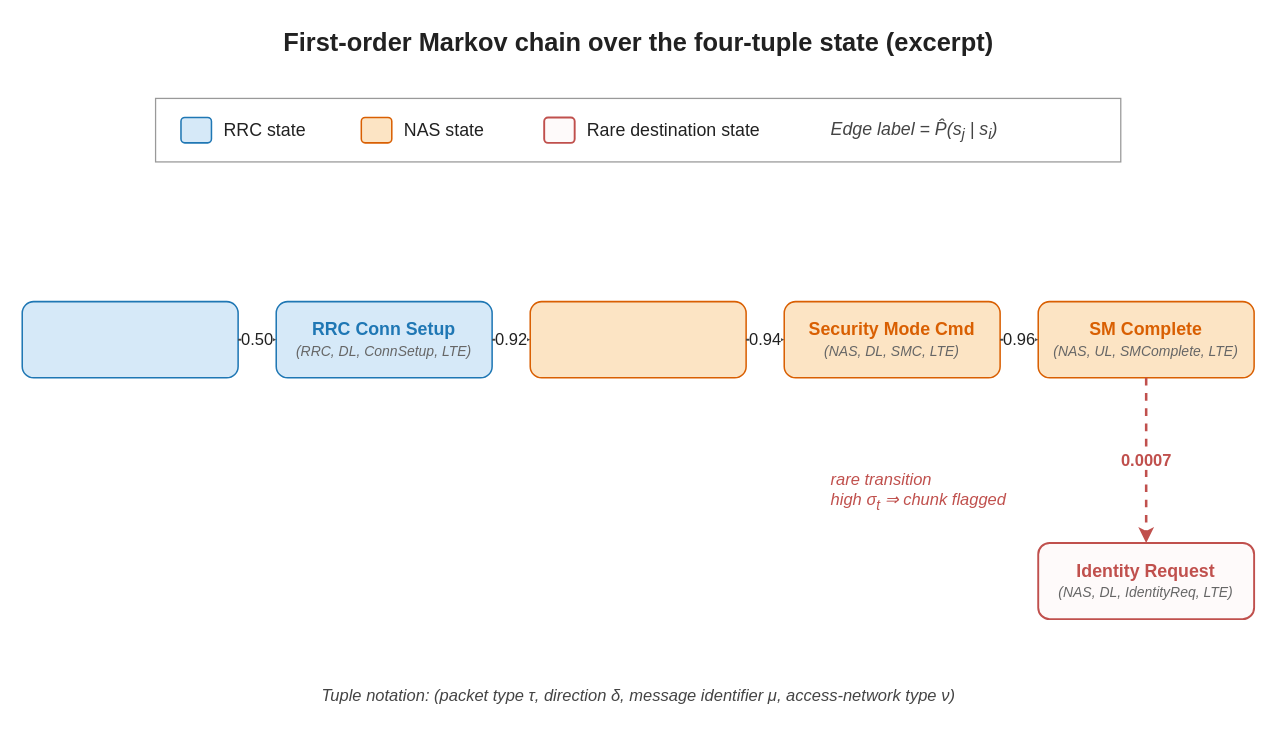
This 1278x729 diagram has some shape labels left out. The shapes that lost their labels are listed below. From the top down, each one's box as (x1, y1, x2, y2) in pixels, then its label:
(21, 300, 238, 378): SIB Broadcast (RRC, DL, SIB, LTE)
(529, 300, 746, 378): Attach Request (NAS, UL, AttachReq, LTE)
